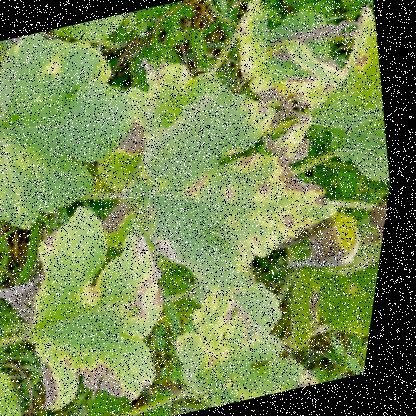Anthracnose: (275, 142, 340, 207), (173, 164, 224, 204), (232, 146, 276, 180), (275, 202, 313, 238), (217, 182, 252, 209), (256, 174, 284, 202)
